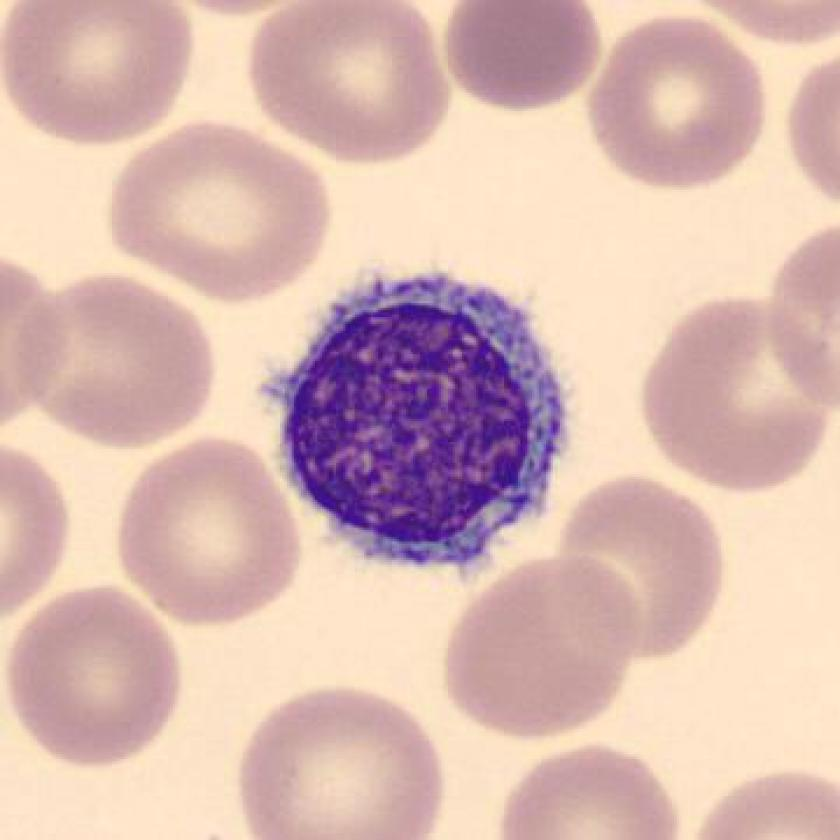lymphocyte: (251, 253, 584, 589), (629, 355, 631, 357)
